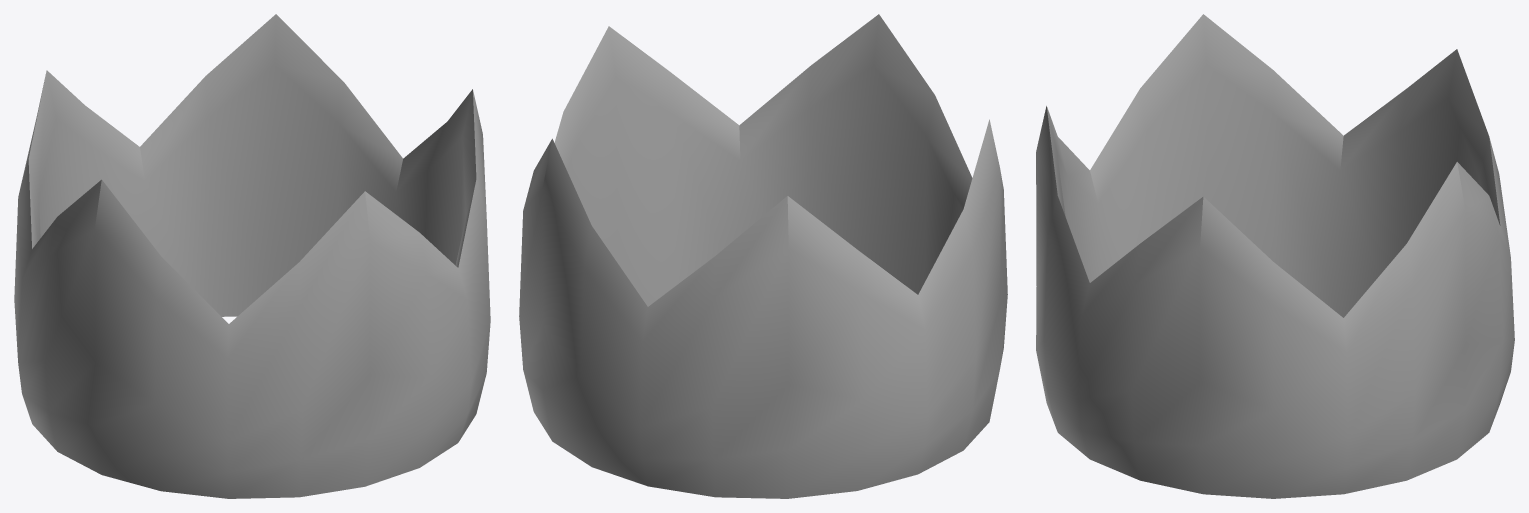
Rendered from crown.2.silver.gltf.
3 views of the same model, side by side, from view 1: azimuth 30°, elevation 25°; view 2: azimuth 150°, elevation 25°; view 3: azimuth 270°, elevation 25° (orthographic). The views are drawn at different scales.
Parts seen in each view (by area): view 1: crown2; view 2: crown2; view 3: crown2.
Part boxes in pixels (<box>): crown2: <box>14,14,490,498</box>; crown2: <box>519,14,1007,498</box>; crown2: <box>1036,14,1514,498</box>.
Bounding box in the file's own units: 0.5593 × 0.3809 × 0.555.
1 material, 1 textured.
